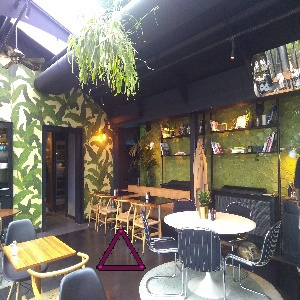triangle: (92, 225, 148, 273)
